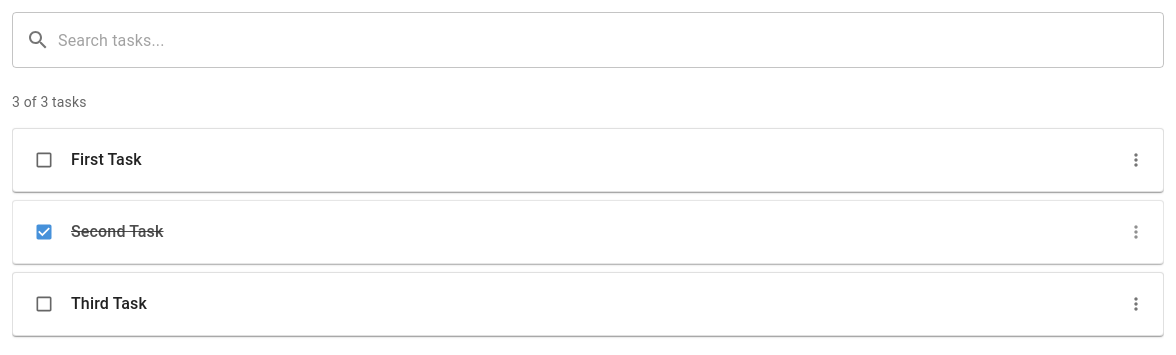
it: TaskList › should show no results message when search yields no matches
In the field with placeholder "Search tasks...": (611, 40) [58,12,1164,68], type "nonexistent"
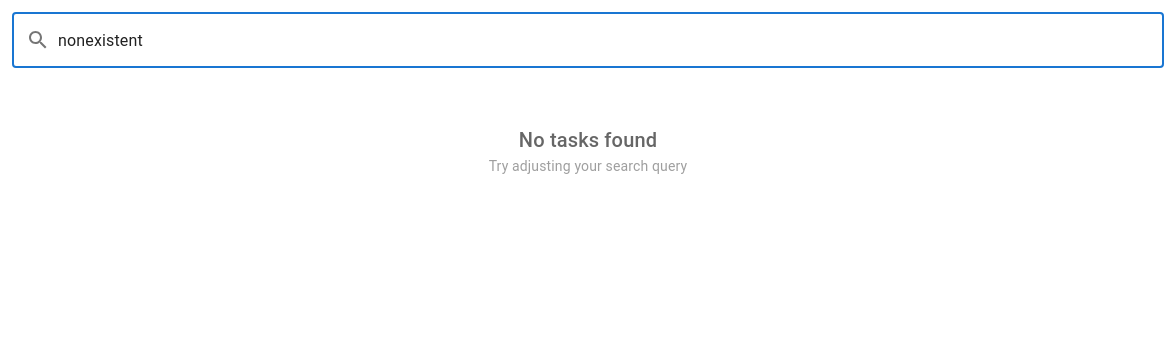
Check: the heading "No tasks found" is shown, box [519,128,657,152]
Check: the text "Try adjusting your search query" is shown, box [489,158,687,174]
